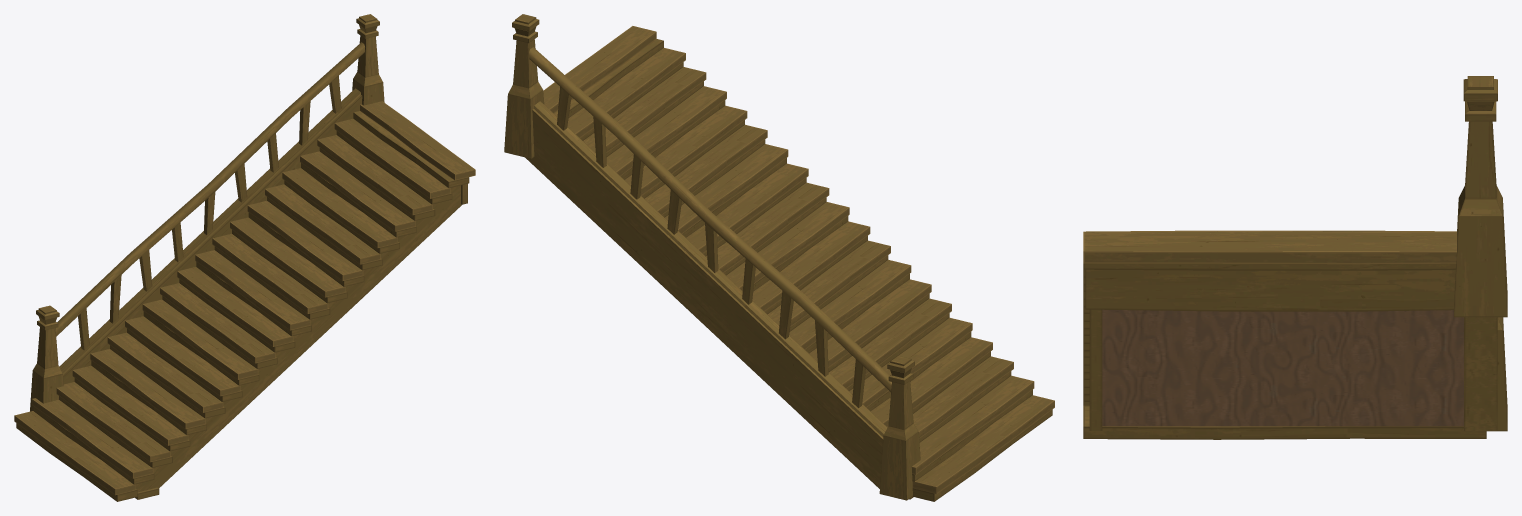
Rendered from SM_building_stairs_02.glb.
The picture shows the model from 3 angles, left to right: view 1: azimuth 30°, elevation 25°; view 2: azimuth 150°, elevation 25°; view 3: azimuth 270°, elevation 25°; orthographic projection. The views are drawn at different scales.
Visible parts, largest first — view 1: SM_building_stairs_02; view 2: SM_building_stairs_02; view 3: SM_building_stairs_02.
Boxes of the visible parts, bbox=[...] form: SM_building_stairs_02: bbox=[14, 14, 475, 501]; SM_building_stairs_02: bbox=[504, 14, 1054, 501]; SM_building_stairs_02: bbox=[1083, 76, 1507, 439].
Bounding box in the file's own units: 6.26 × 5.4 × 3.16.
3 materials, 3 textured.
